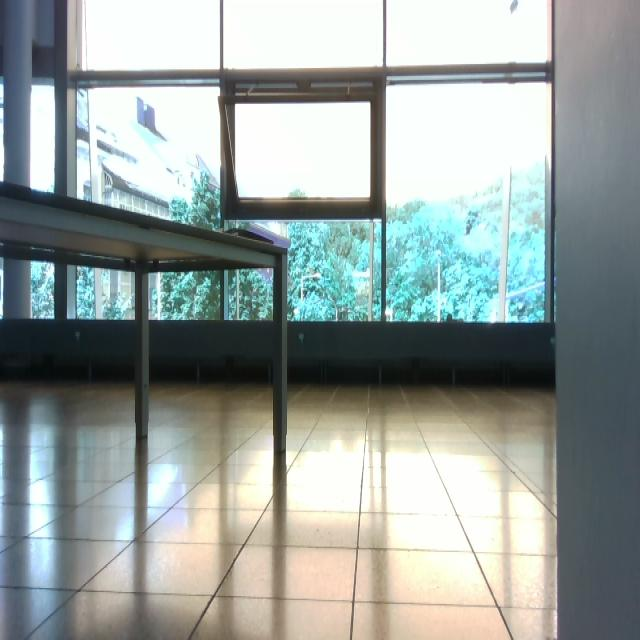door: (2, 1, 639, 640)
light bulb: (300, 272, 322, 321), (385, 306, 394, 321), (510, 1, 519, 14), (293, 308, 300, 316)
pillar: (551, 1, 640, 640)
table: (2, 181, 294, 457)
tiled floor: (2, 380, 558, 638)
window: (2, 1, 556, 328)
